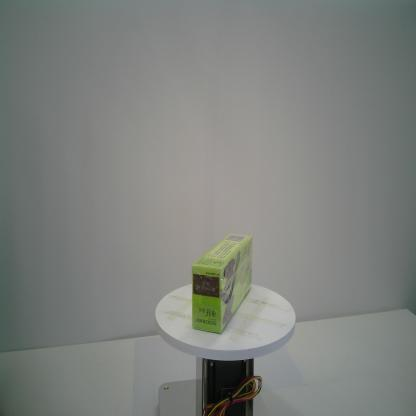Instant Drink: (191, 232, 253, 335)
